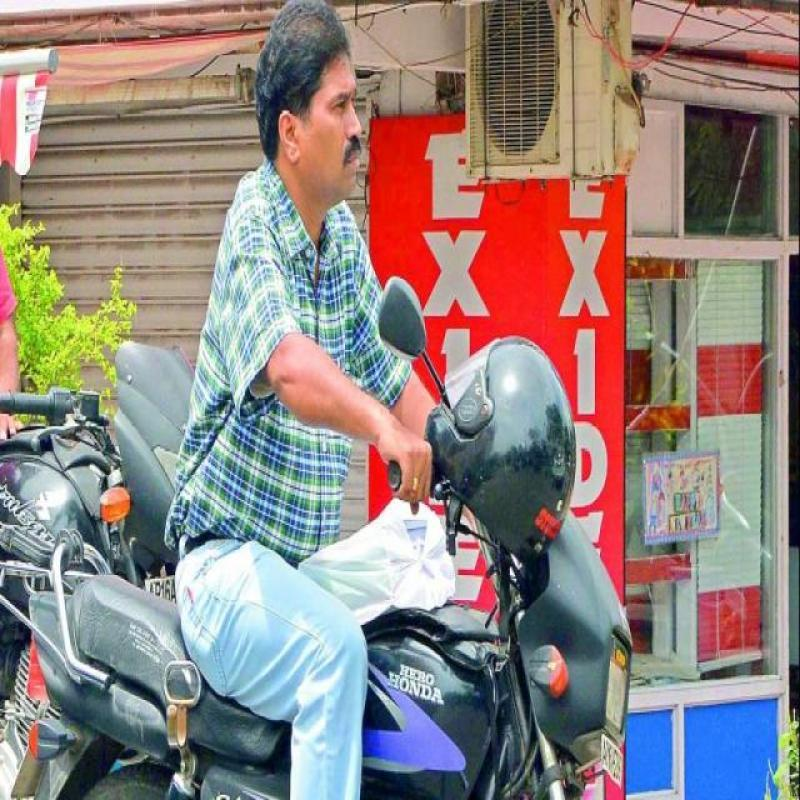nohelmet: (245, 5, 379, 213)
